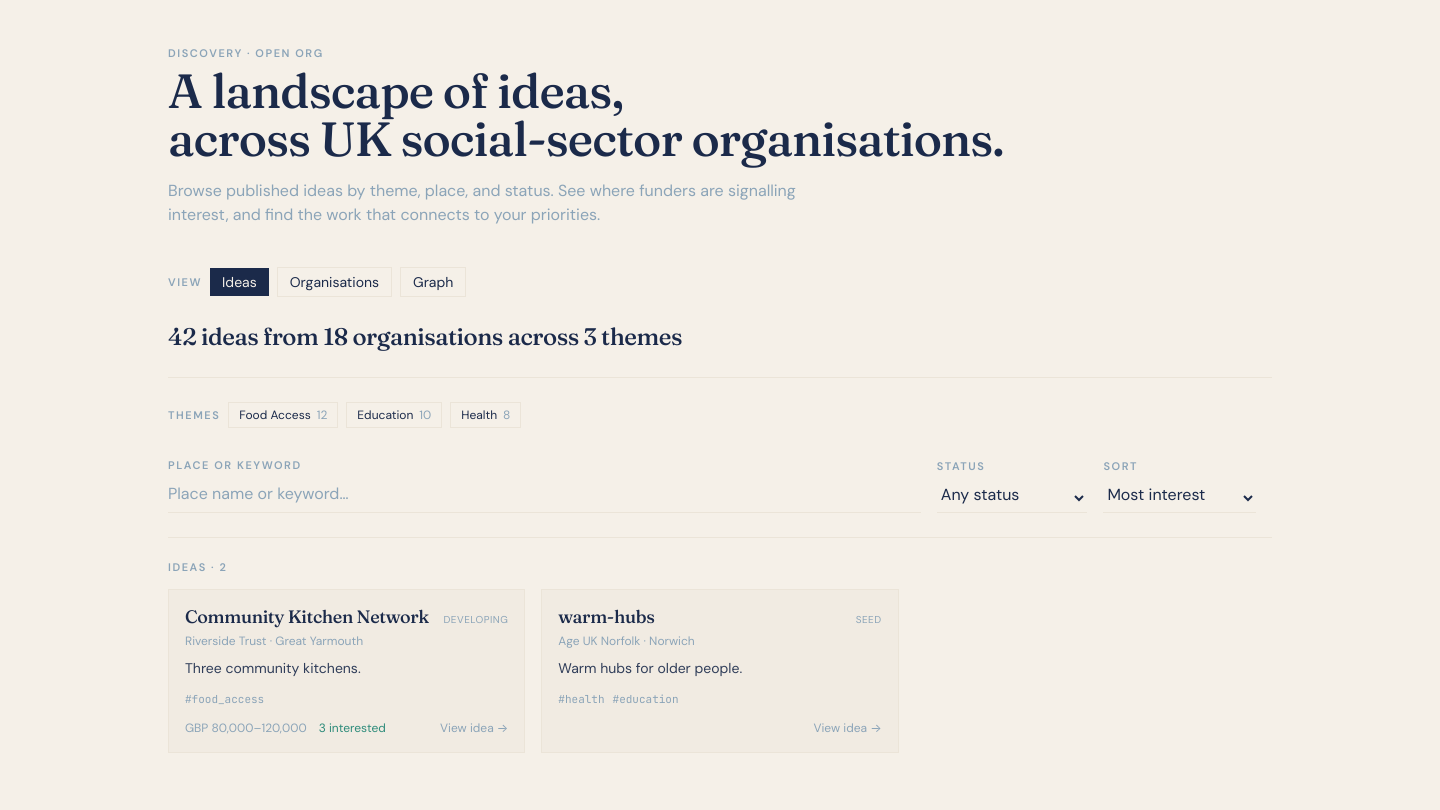
it: Discover page — ideas-first › clicking a theme chip filters ideas to that theme
Expected: the link "Community Kitchen Network" is shown, [185, 605, 429, 628]
Expected: the link "warm-hubs" is shown, [558, 605, 654, 628]
// Click the Education chip — only warm-hubs has education.
Click the text "Education".
click(385, 415)  # box [357, 407, 413, 423]
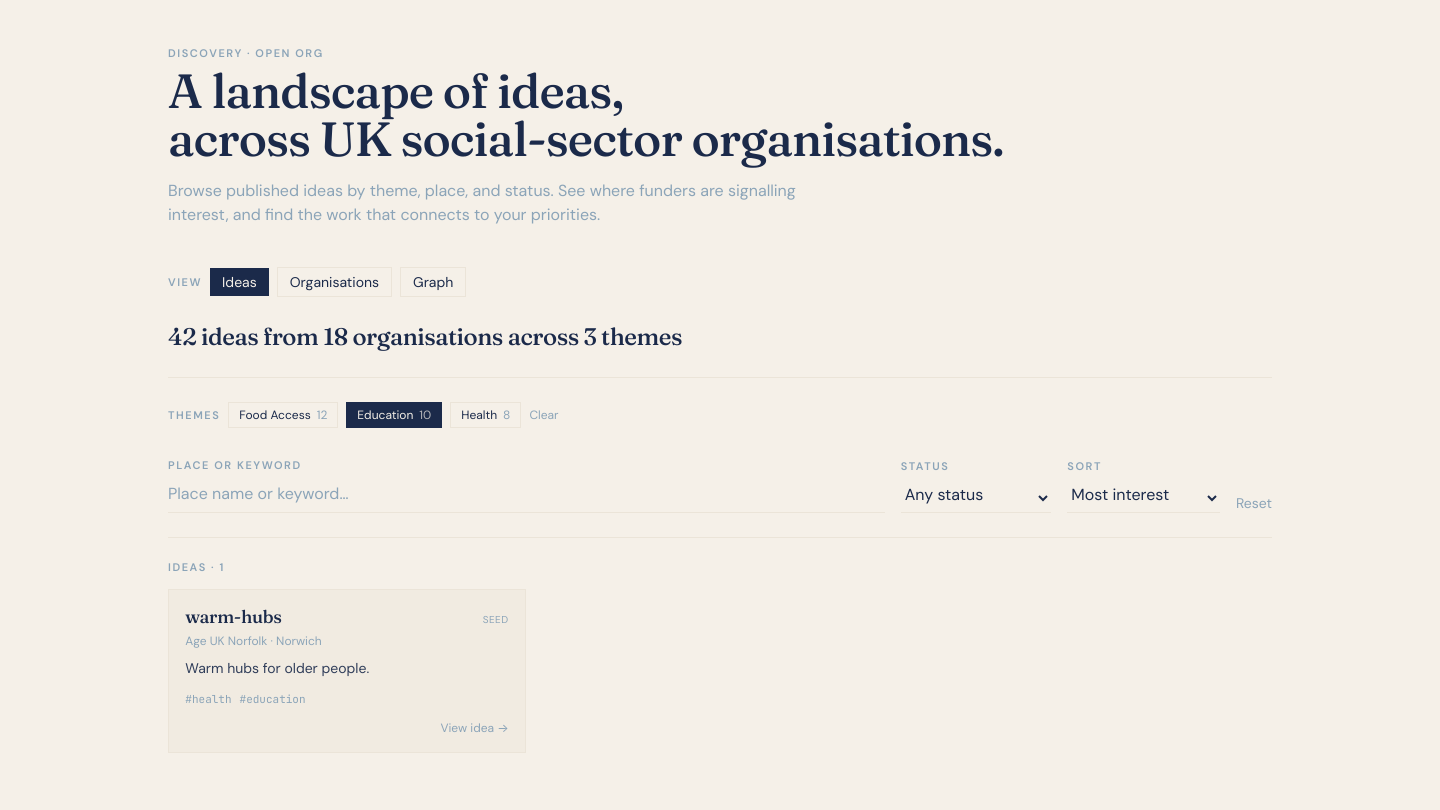
Expected: the link "warm-hubs" is shown, [185, 605, 281, 628]
Now the link "Community Kitchen Network" is gone
